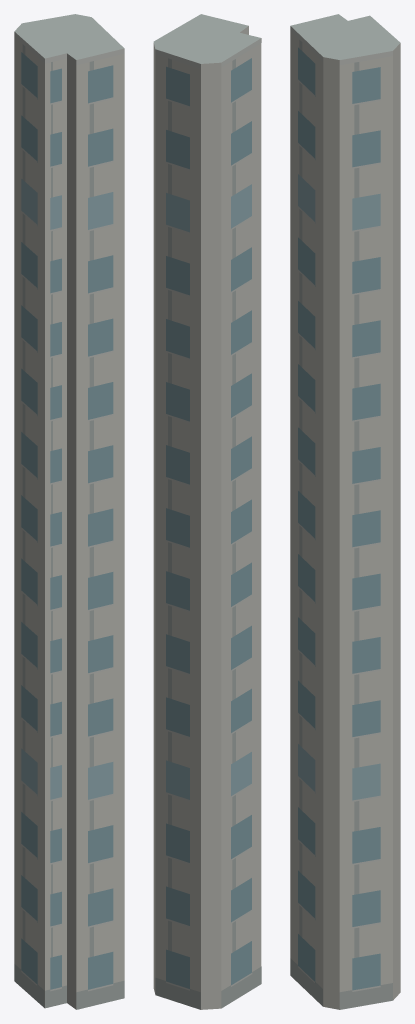
Rendered from survey-upis-32840448.glb.
3 views of the same model, side by side, from view 1: azimuth 90°, elevation 25°; view 2: azimuth 210°, elevation 25°; view 3: azimuth 270°, elevation 25° (orthographic).
Visible parts, largest first — view 1: survey-upis-32840448.tmp; view 2: survey-upis-32840448.tmp; view 3: survey-upis-32840448.tmp.
Boxes of the visible parts, x1,y1,x2,y2 form: survey-upis-32840448.tmp: [14, 14, 124, 1009]; survey-upis-32840448.tmp: [153, 14, 261, 1009]; survey-upis-32840448.tmp: [290, 14, 400, 1009].
Size of the model in its own units: 4.77 by 45.75 by 4.82.
